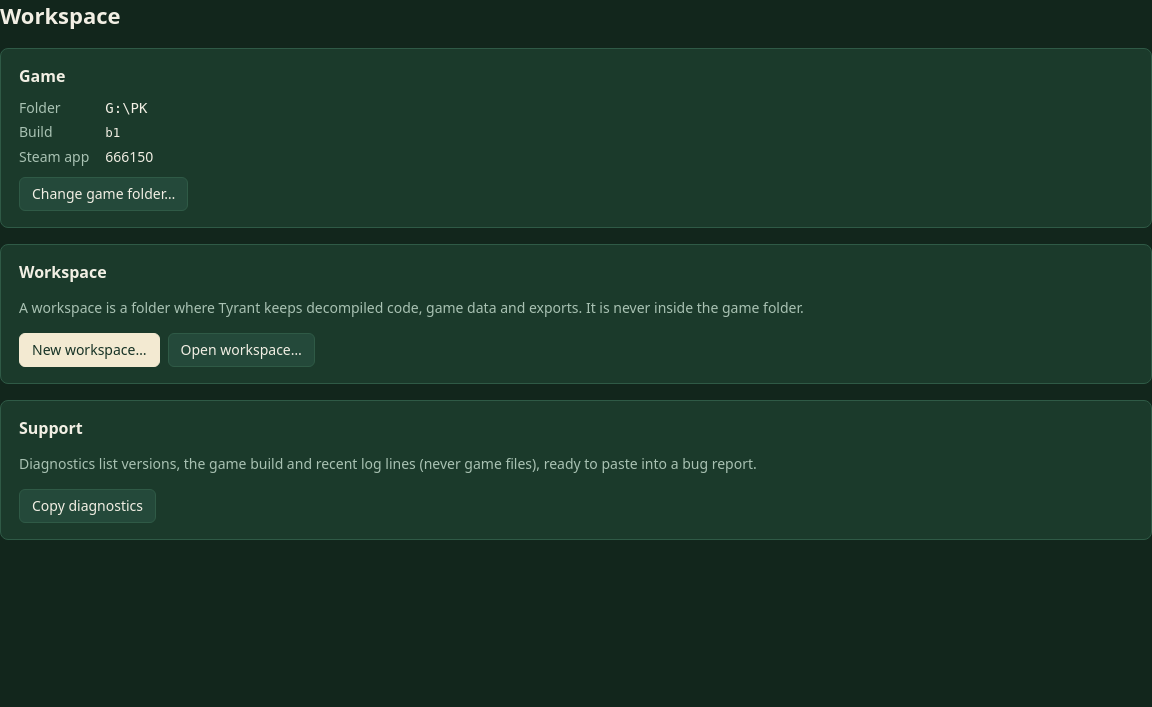
Test: WorkspaceView › without a workspace offers to create one in a picked folder
The width and height of the screenshot is (1152, 707).
Step 1. Click the button "New workspace…" → (89, 350), box [19,333,160,367]
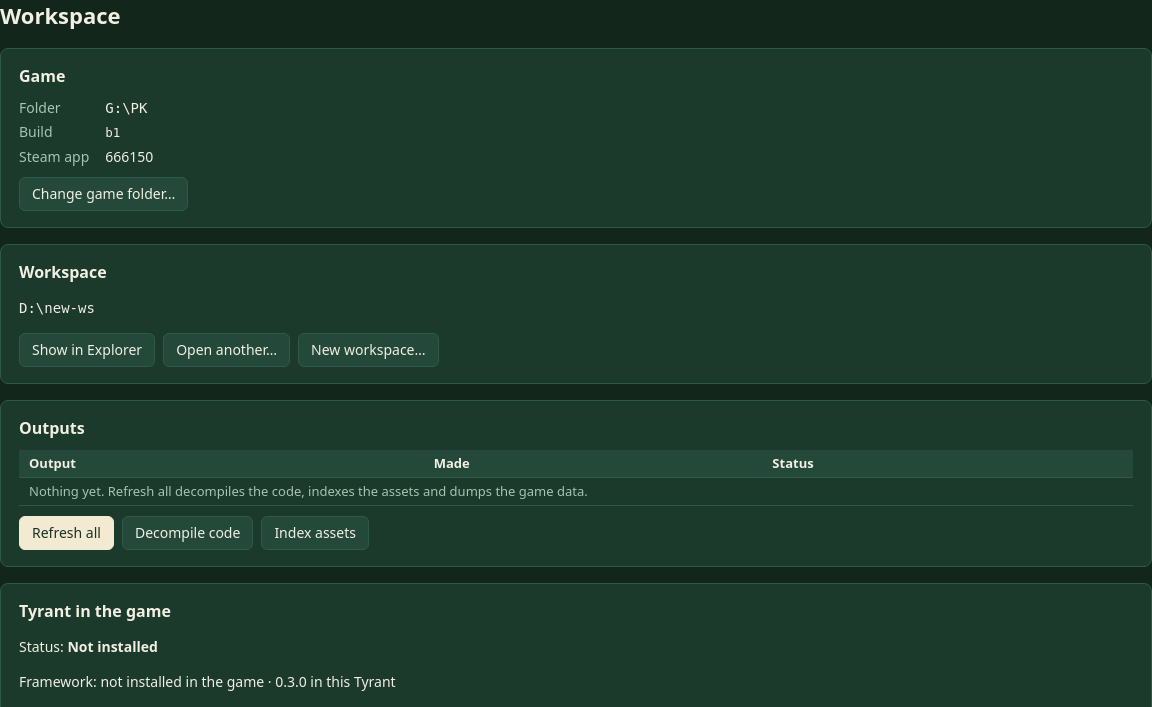
Now the text "D:\\new-ws" is shown, box [19,300,95,316]
